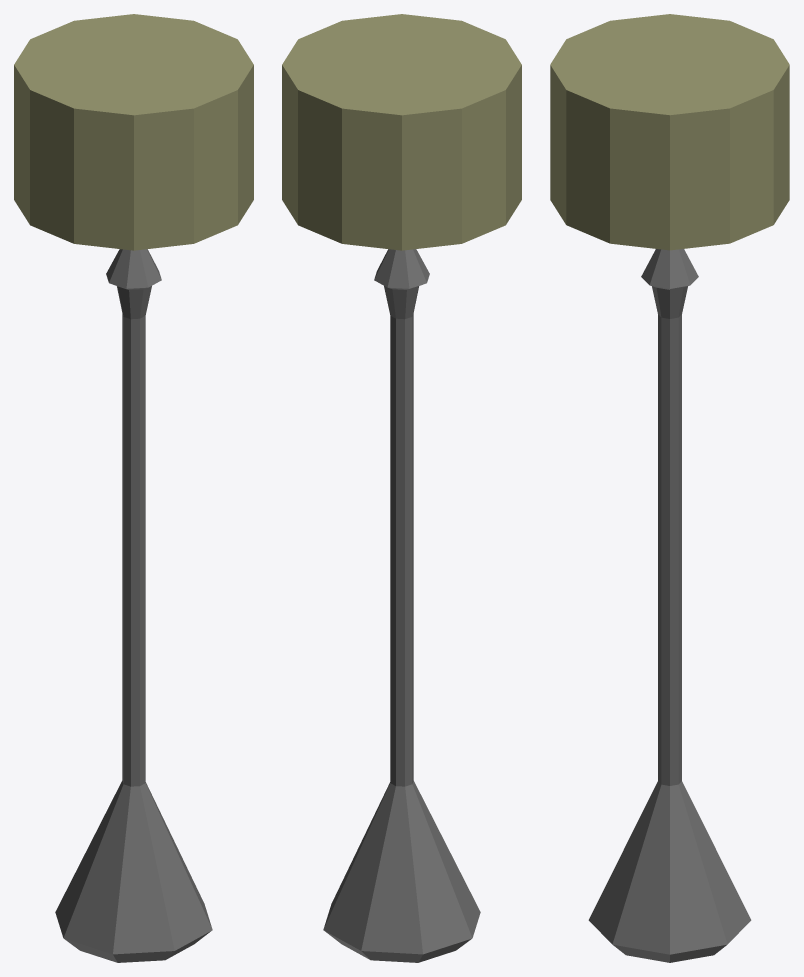
Rendered from standing_lamp1.fbx.
3 renders of one model, left to right at view 1: azimuth 30°, elevation 25°; view 2: azimuth 150°, elevation 25°; view 3: azimuth 270°, elevation 25°, orthographic.
Visible parts, largest first — view 1: standing_lamp1; view 2: standing_lamp1; view 3: standing_lamp1.
Boxes of the visible parts, x1,y1,x2,y2 form: standing_lamp1: (14, 14, 253, 962); standing_lamp1: (282, 14, 521, 962); standing_lamp1: (550, 14, 789, 962).
Bounding box in the file's own units: 0.5412 × 2.17 × 0.5412.
